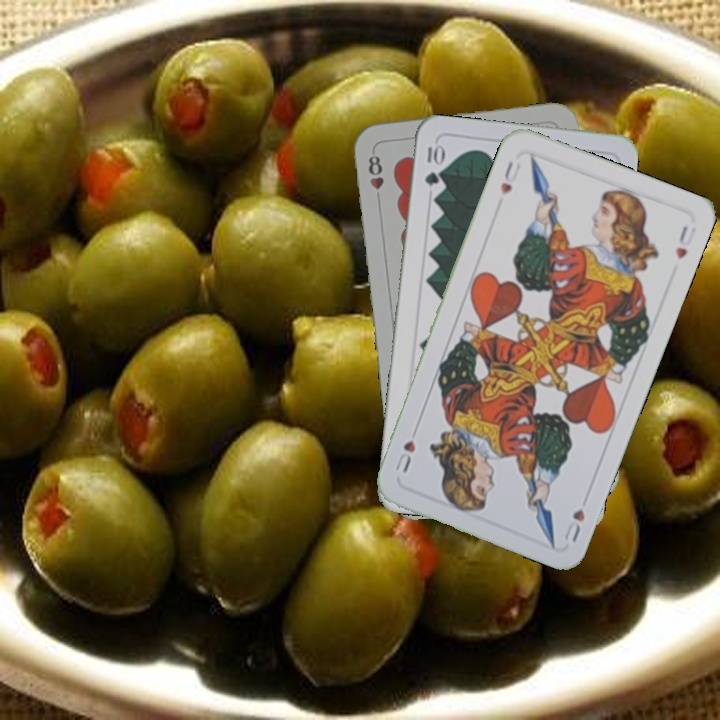G10: (421, 139, 444, 189)
H8: (364, 147, 386, 192)
HU: (496, 157, 524, 198), (560, 505, 588, 546)
